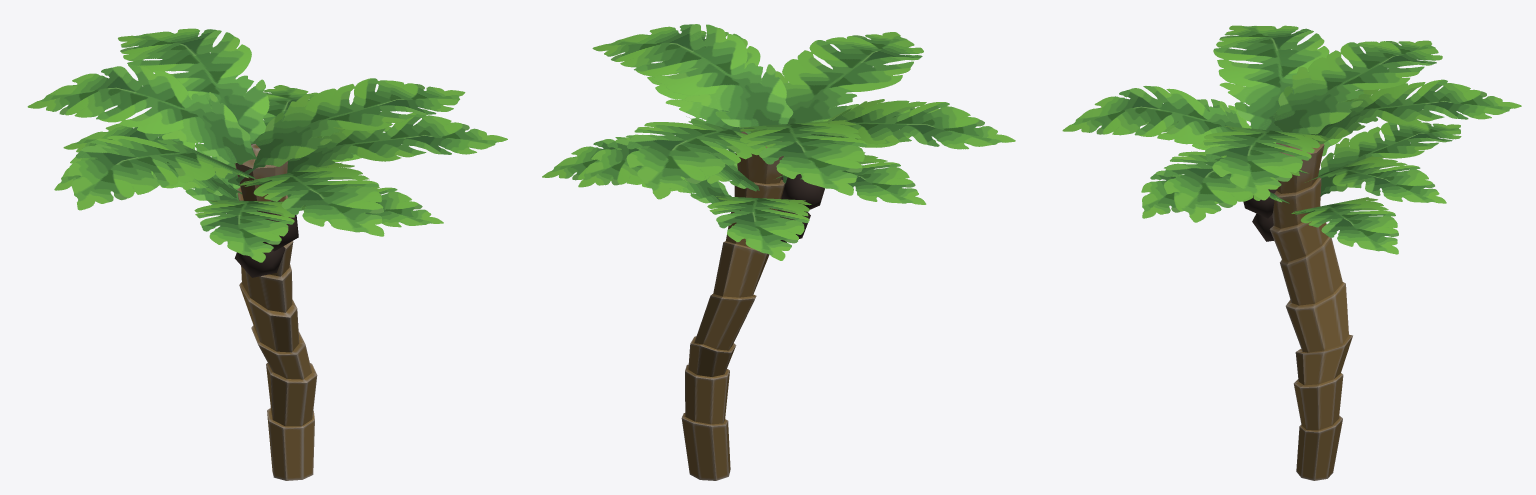
Rendered from palm tree 2.fbx.
3 renders of one model, left to right at view 1: azimuth 30°, elevation 25°; view 2: azimuth 150°, elevation 25°; view 3: azimuth 270°, elevation 25°, orthographic. The views are drawn at different scales.
Parts seen in each view (by area): view 1: Cylinder.001, Plane.017, Plane.013, Plane.012, Plane.015, Plane.014, Plane.016, Plane.020, Plane.022, Plane.023, Plane.021, Plane.018 (+1 smaller); view 2: Cylinder.001, Plane.013, Plane.014, Plane.012, Plane.017, Plane.015, Plane.023, Plane.018, Plane.021, Plane.019, Plane.016, Icosphere.005; view 3: Cylinder.001, Plane.017, Plane.015, Plane.014, Plane.012, Plane.013, Plane.023, Plane.019, Plane.016, Plane.018, Plane.022, Icosphere.003.
Boxes of the visible parts, left/top/right/bottom form: Cylinder.001: left=235, top=144, right=317, bottom=480; Plane.017: left=27, top=65, right=256, bottom=164; Plane.013: left=236, top=78, right=465, bottom=182; Plane.012: left=118, top=28, right=269, bottom=144; Plane.015: left=68, top=135, right=255, bottom=210; Plane.014: left=240, top=162, right=384, bottom=236; Plane.016: left=287, top=113, right=507, bottom=173; Plane.020: left=194, top=200, right=294, bottom=262; Plane.022: left=281, top=186, right=443, bottom=227; Plane.023: left=63, top=123, right=240, bottom=204; Plane.021: left=54, top=140, right=241, bottom=198; Plane.018: left=217, top=85, right=318, bottom=185; Cylinder.001: left=681, top=131, right=784, bottom=480; Plane.013: left=592, top=24, right=793, bottom=134; Plane.014: left=775, top=32, right=923, bottom=123; Plane.012: left=626, top=116, right=775, bottom=199; Plane.017: left=739, top=120, right=866, bottom=195; Plane.015: left=811, top=99, right=1015, bottom=149; Plane.023: left=707, top=196, right=811, bottom=260; Plane.018: left=578, top=134, right=759, bottom=191; Plane.021: left=776, top=152, right=926, bottom=204; Plane.019: left=542, top=137, right=731, bottom=203; Plane.016: left=636, top=30, right=760, bottom=152; Icosphere.005: left=781, top=174, right=824, bottom=211; Cylinder.001: left=1269, top=142, right=1352, bottom=480; Plane.017: left=1273, top=40, right=1442, bottom=134; Plane.015: left=1213, top=25, right=1329, bottom=131; Plane.014: left=1062, top=86, right=1251, bottom=148; Plane.012: left=1311, top=79, right=1521, bottom=144; Plane.013: left=1203, top=126, right=1325, bottom=200; Plane.023: left=1318, top=122, right=1461, bottom=196; Plane.019: left=1291, top=197, right=1398, bottom=254; Plane.016: left=1163, top=151, right=1308, bottom=222; Plane.018: left=1305, top=156, right=1446, bottom=203; Plane.022: left=1141, top=167, right=1289, bottom=218; Icosphere.003: left=1243, top=189, right=1276, bottom=218.
Bounding box in the file's own units: 2379 × 1995 × 2320.
Materials: 2 (2 with a texture image).
